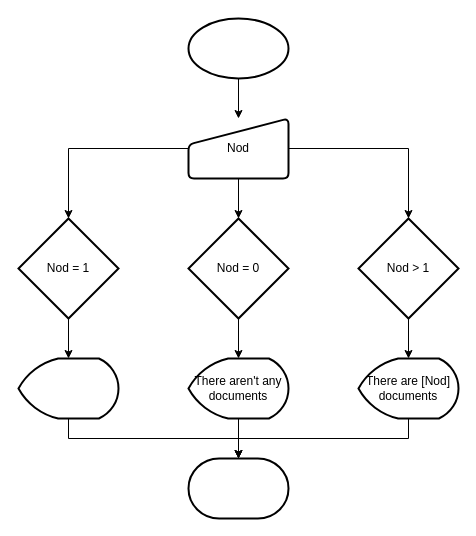
Image size: 476x536. Some labels were removed from this diagram. Each missing label, with the centre of its shape:
"Fin" goes at [238,488].
"Inicio" goes at [238,48].
"There is one document" goes at [68,388].
